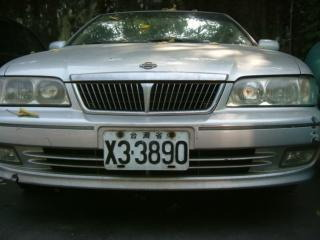plate: (100, 129, 192, 171)
